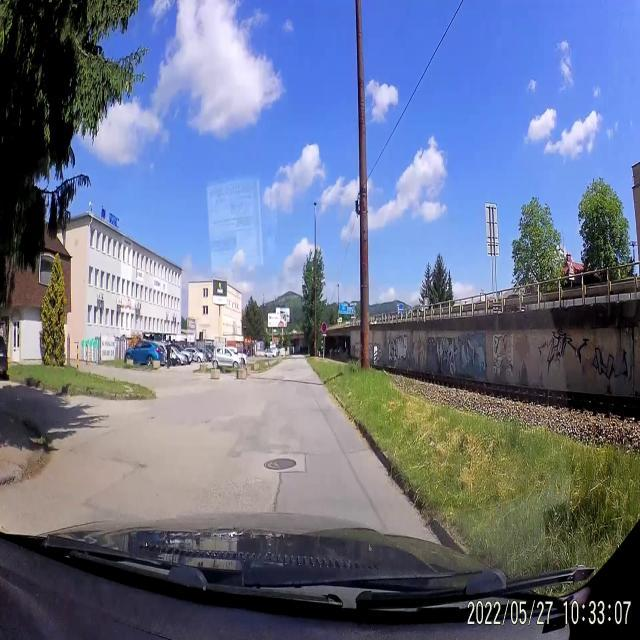Manhole: (262, 452, 299, 474)
